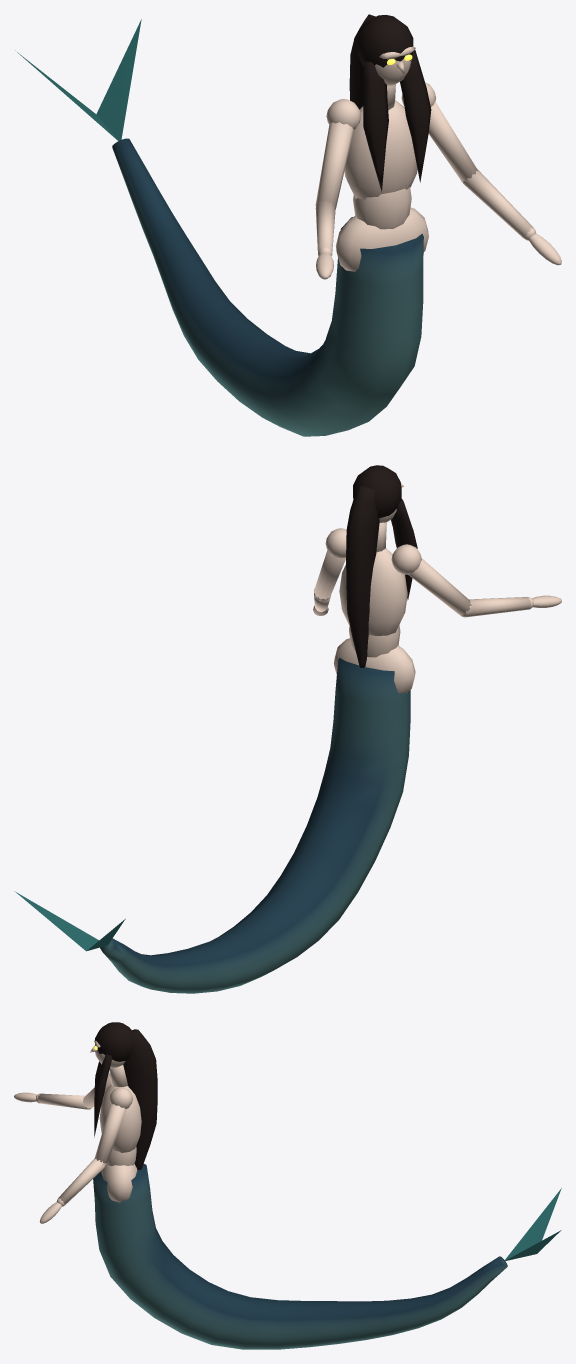
File: duyung.glb
3 renders of one model, top to bottom at view 1: azimuth 30°, elevation 25°; view 2: azimuth 150°, elevation 25°; view 3: azimuth 270°, elevation 25°, orthographic. The views are drawn at different scales.
Parts seen in each view (by area): view 1: tail, head, torso, pelvis, upperarm_R, upperarm_L, forearm_L, forearm_R; view 2: tail, head, torso, upperarm_R, pelvis, upperarm_L, forearm_R; view 3: tail, head, torso, upperarm_L, pelvis, forearm_L, forearm_R.
Part boxes in pixels (left/top/right/bottom): tail: left=15, top=19, right=423, bottom=436; head: left=349, top=14, right=431, bottom=191; torso: left=344, top=84, right=417, bottom=229; pelvis: left=336, top=207, right=428, bottom=271; upperarm_R: left=315, top=99, right=360, bottom=209; upperarm_L: left=401, top=82, right=478, bottom=182; forearm_L: left=461, top=169, right=535, bottom=240; forearm_R: left=315, top=201, right=335, bottom=255; tail: left=14, top=658, right=410, bottom=993; head: left=346, top=465, right=417, bottom=667; torso: left=339, top=522, right=407, bottom=657; upperarm_R: left=391, top=544, right=471, bottom=616; pelvis: left=334, top=638, right=415, bottom=693; upperarm_L: left=314, top=528, right=346, bottom=600; forearm_R: left=461, top=597, right=533, bottom=617; tail: left=93, top=1164, right=561, bottom=1349; head: left=90, top=1022, right=157, bottom=1170; torso: left=99, top=1065, right=141, bottom=1165; upperarm_L: left=94, top=1087, right=132, bottom=1163; pelvis: left=101, top=1164, right=137, bottom=1202; forearm_L: left=56, top=1158, right=106, bottom=1206; forearm_R: left=36, top=1093, right=89, bottom=1109.
Bounding box in the file's own units: 1.22 × 2.14 × 3.28.
